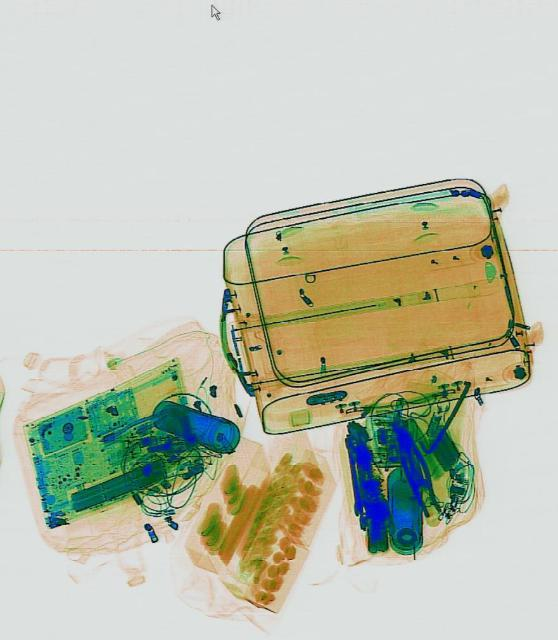Pliers: (387, 422, 444, 522)
